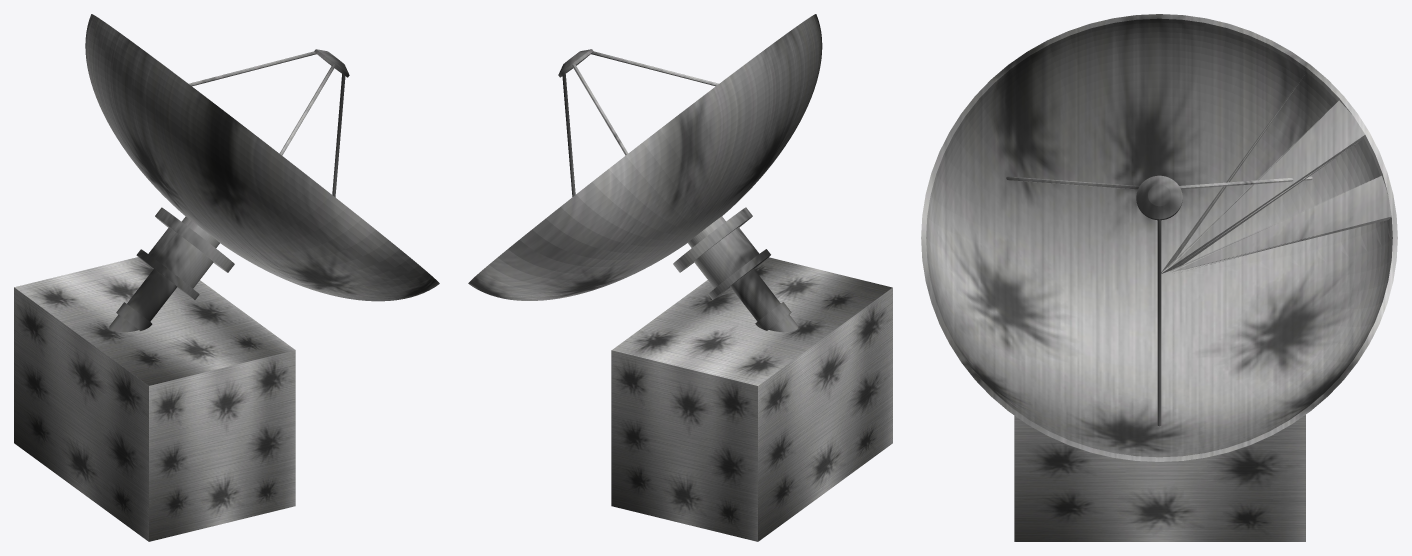
File: RadarExp.FBX
3 views of the same model, side by side, from view 1: azimuth 30°, elevation 25°; view 2: azimuth 150°, elevation 25°; view 3: azimuth 270°, elevation 25° (orthographic). The views are drawn at different scales.
Parts seen in each view (by area): view 1: Box001, default; view 2: Box001, default; view 3: default, Box001.
Boxes of the visible parts, box(x1,y1,x2,y2) form: Box001: box(14, 257, 295, 541); default: box(85, 14, 439, 332); Box001: box(611, 257, 892, 541); default: box(468, 14, 822, 331); default: box(921, 14, 1397, 462); Box001: box(1014, 415, 1305, 541).
Bounding box in the file's own units: 6.43 × 8.49 × 7.7.
2 materials, 2 textured.
